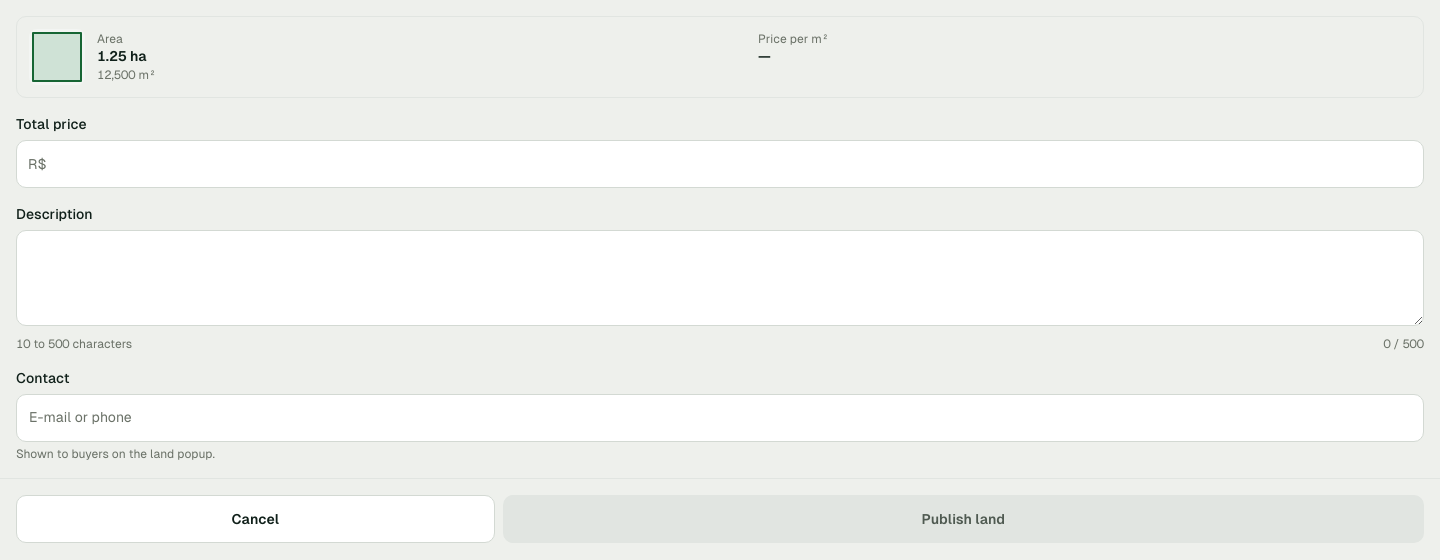
Test case: DetailsStep › keeps Publish disabled until the form is valid
Expected: the button "Publish land" is disabled, [503,495,1424,543]
Type "185000.5" into the field labelled "Total price" at [720, 164], box [16,140,1424,188]
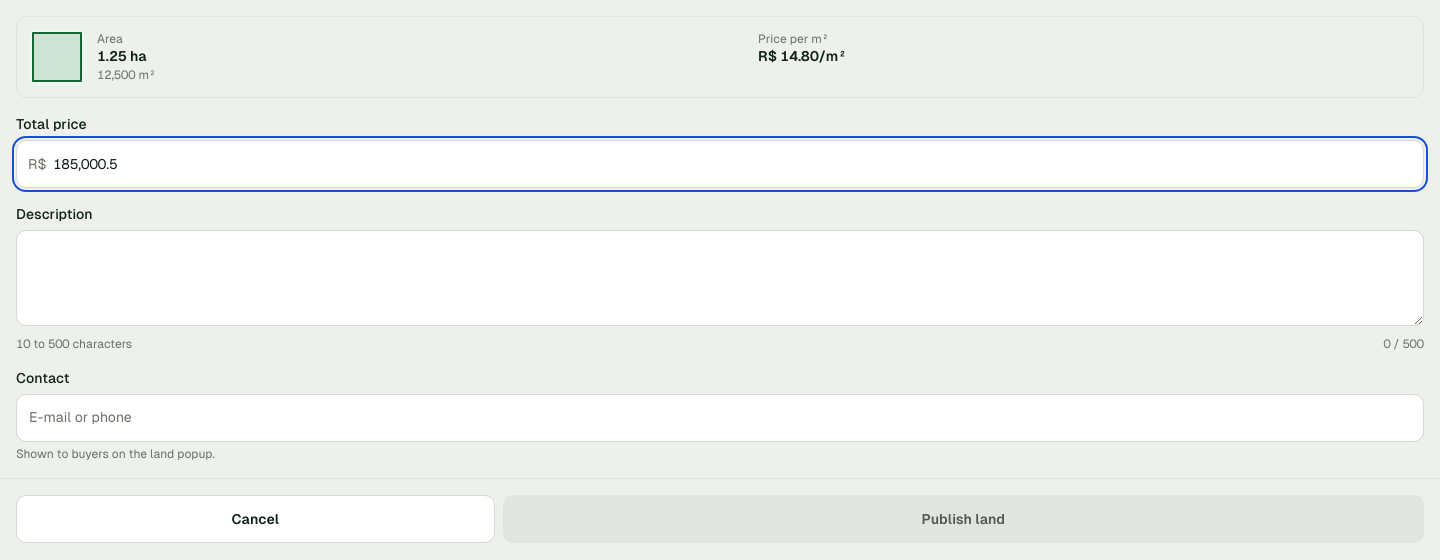
Type "Flat land close to the river, ready to build." into the text box labelled "Description" at [720, 278], box [16,230,1424,326]
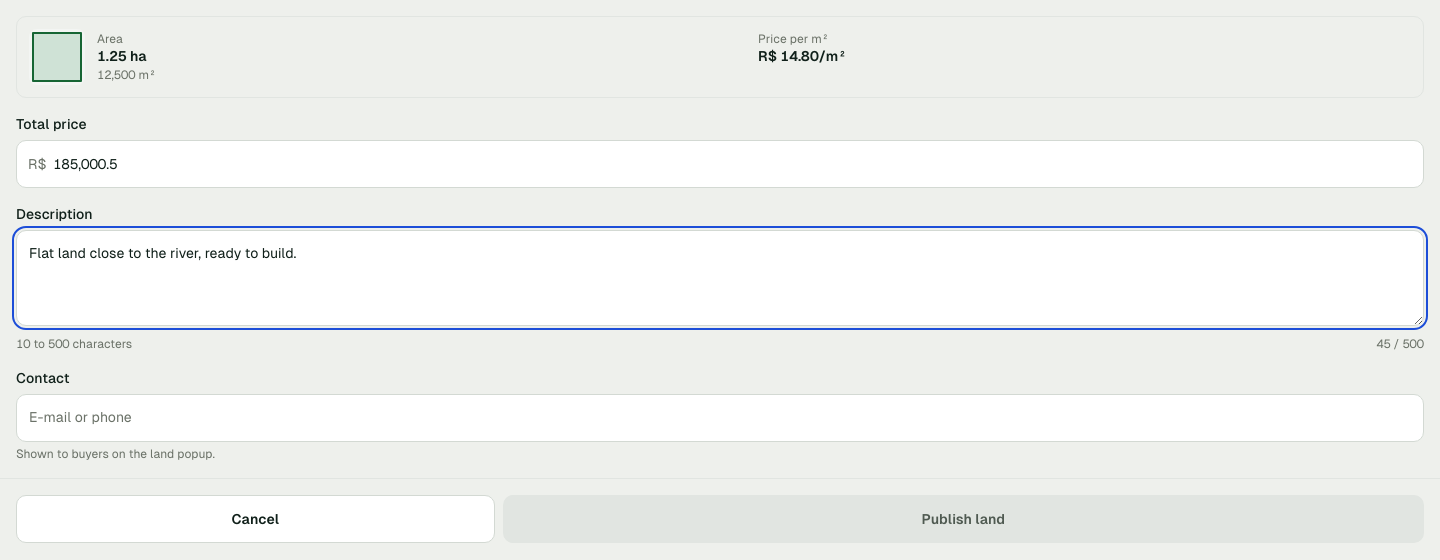
Type "owner@example.com" into the field labelled "Contact" at [720, 418], box [16,394,1424,442]
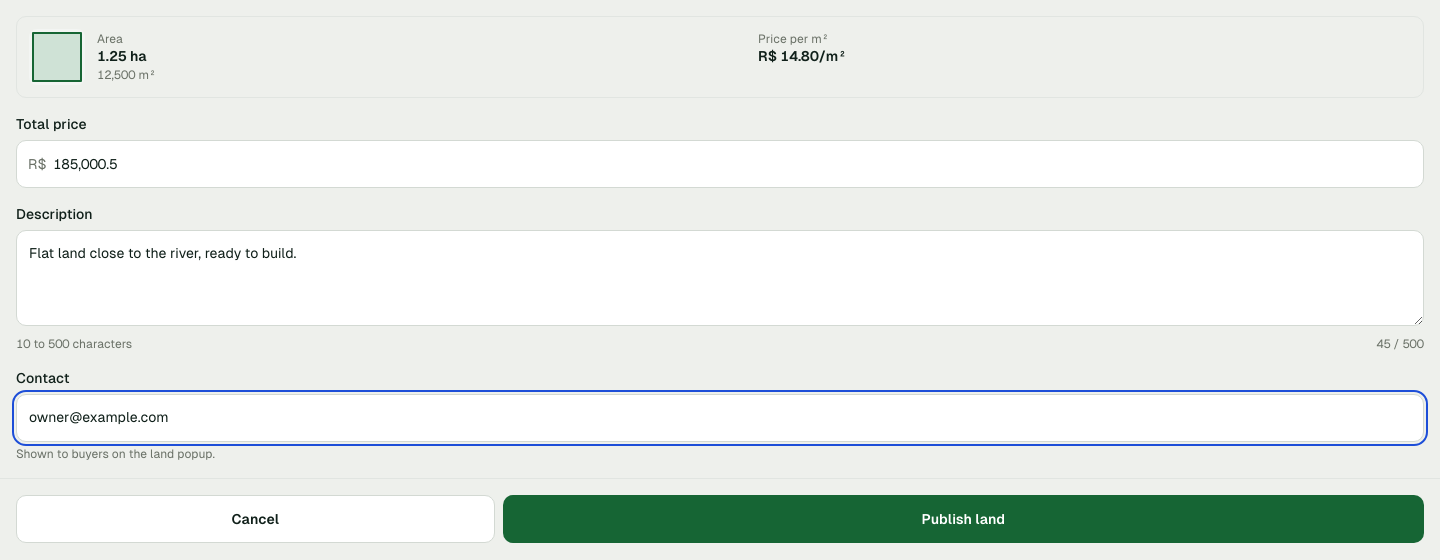
Now the button "Publish land" is enabled, box [503,495,1424,543]
